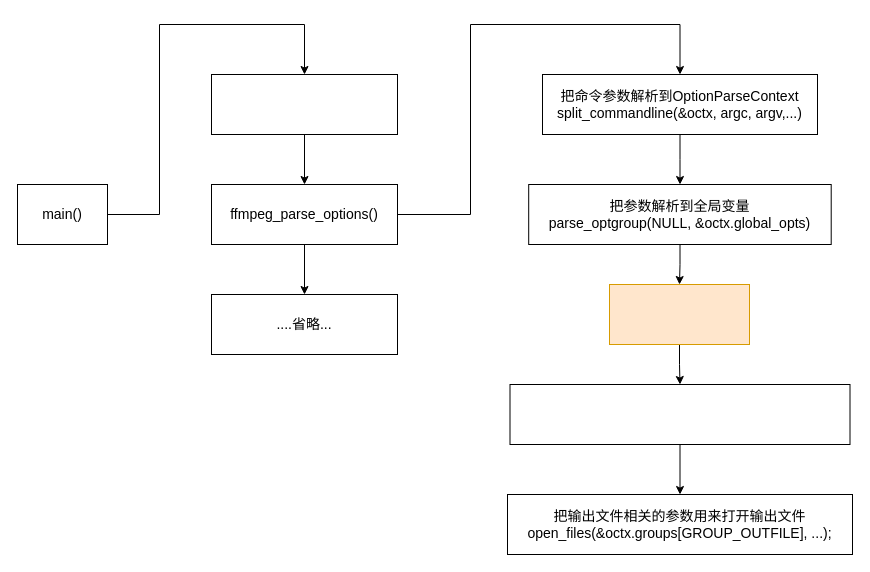
The diagram is 870 pixels wide and 572 high, and some of its shapes have lost their labels. The centre of each missing label's shape, as x and y in pixels:
"term_init()" goes at (x=679, y=314).
"一些准备工作" goes at (x=304, y=104).
"把输入文件相关的参数用来打开输入文件 open_files(&octx.groups[GROUP_INFILE],...)" goes at (x=679, y=414).
